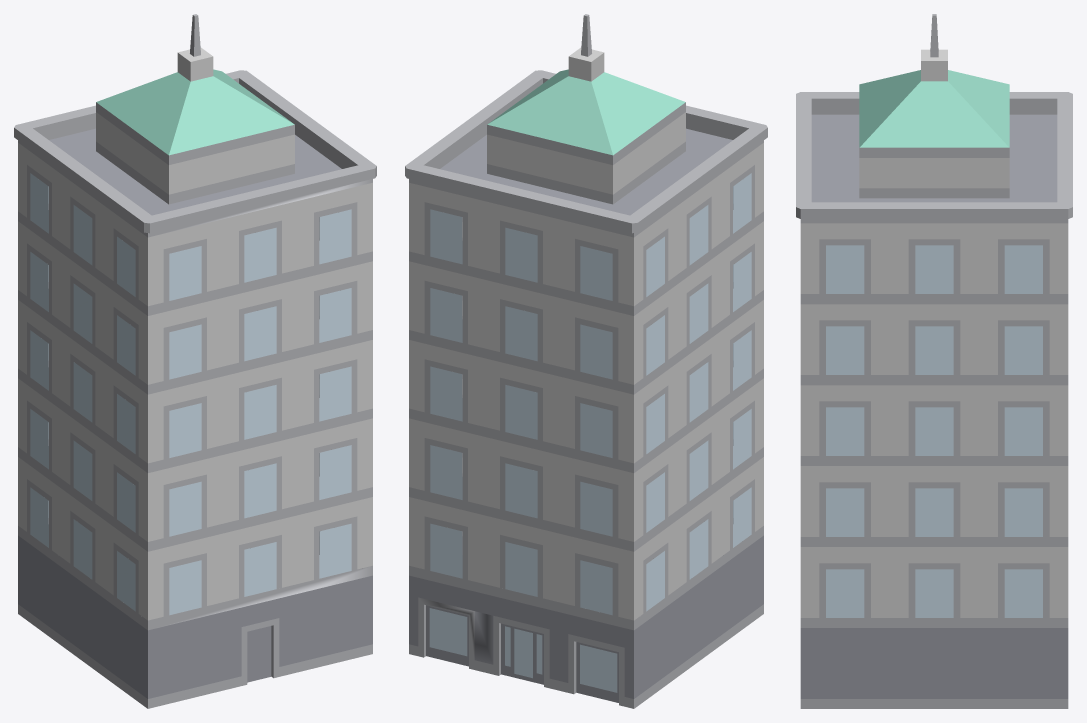
The model's file is skye.fbx.
The picture shows the model from 3 angles, left to right: view 1: azimuth 30°, elevation 25°; view 2: azimuth 150°, elevation 25°; view 3: azimuth 270°, elevation 25°; orthographic projection. The views are drawn at different scales.
Visible parts, largest first — view 1: skyscraperE; view 2: skyscraperE; view 3: skyscraperE.
Part boxes in pixels (x1,y1,x2,y2): skyscraperE: (14, 14, 376, 708); skyscraperE: (405, 14, 767, 708); skyscraperE: (796, 14, 1072, 708).
Bounding box in the file's own units: 248 × 630 × 248.
